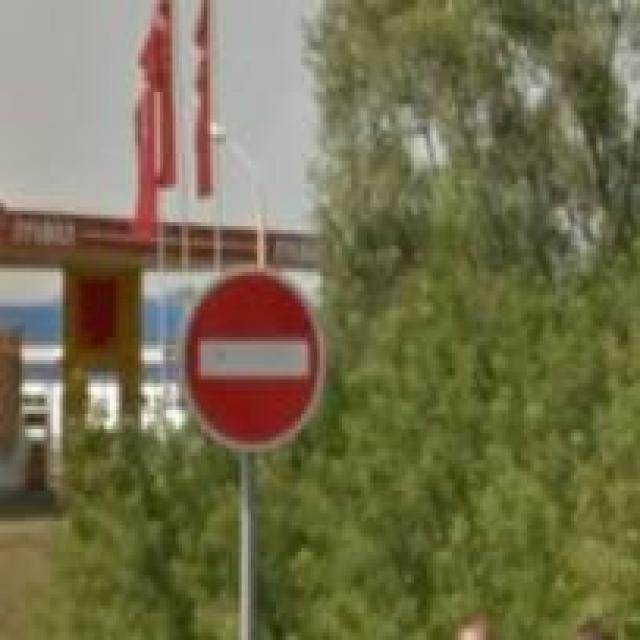traffic_sign: (179, 264, 326, 452)
